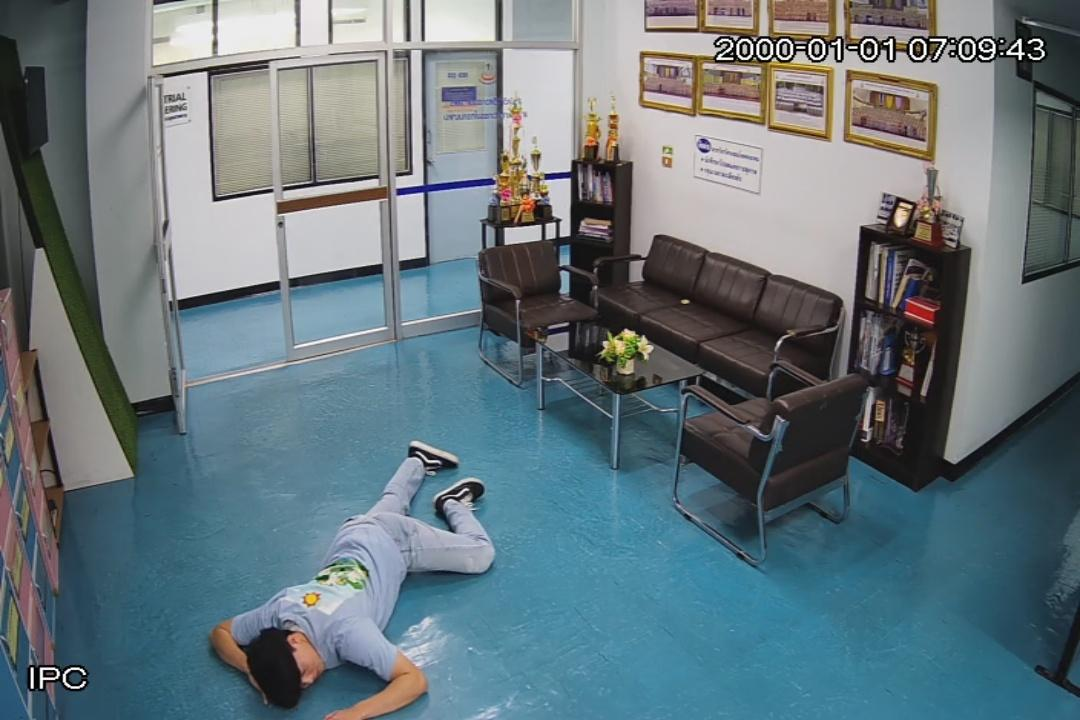fall: (215, 448, 495, 720)
